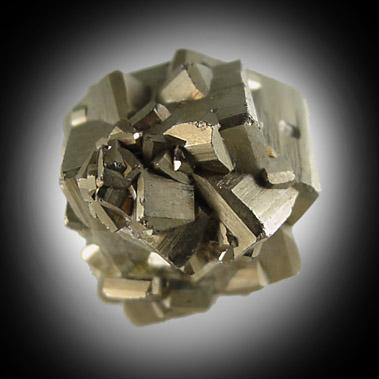pyrite: (58, 49, 322, 329)
